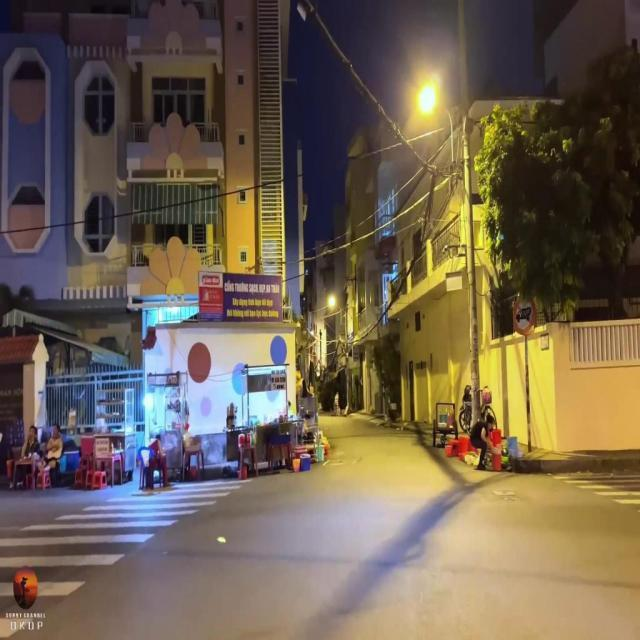106-cam-oto-tai: (513, 296, 537, 336)
